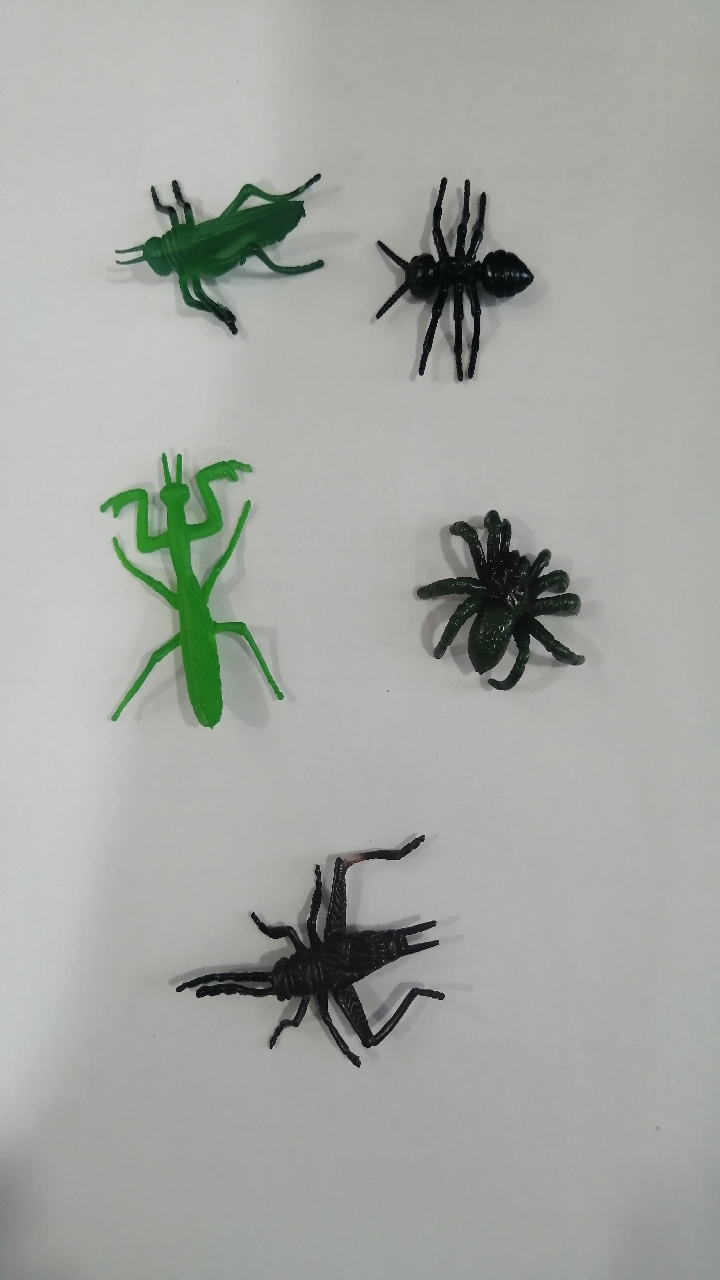intruso: (140, 819, 500, 1103), (69, 423, 317, 746), (391, 463, 614, 755), (343, 146, 546, 405), (111, 114, 332, 351)
